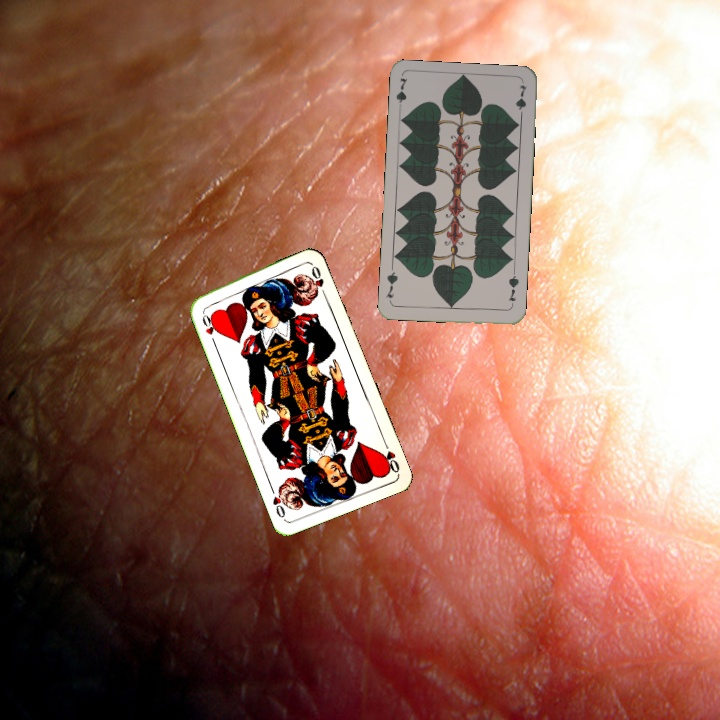G7: (392, 74, 410, 115), (504, 269, 521, 310)
HO: (198, 305, 221, 345), (378, 437, 402, 475)
